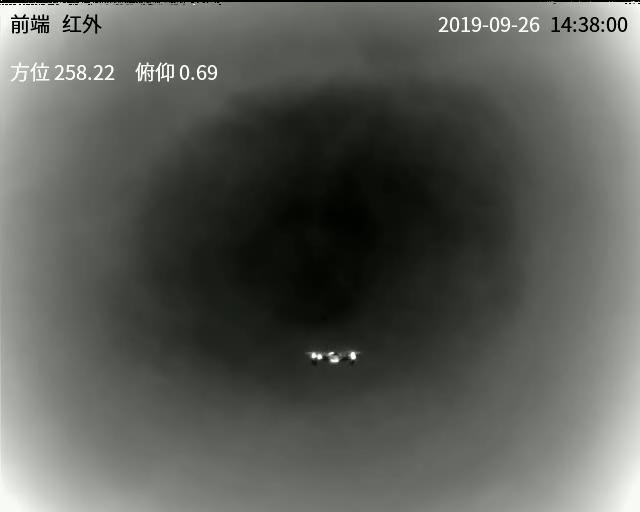uav: (303, 341, 360, 367)
